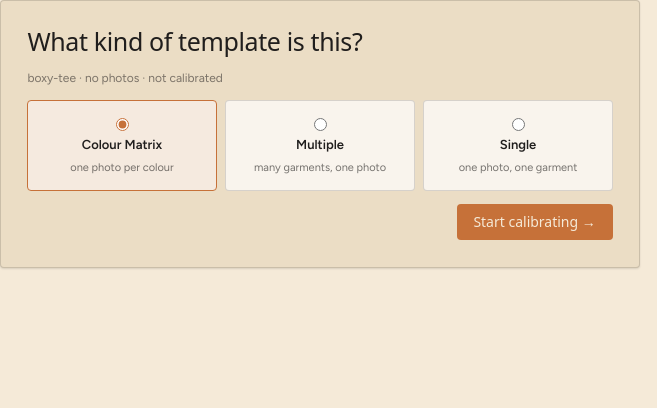
KindPicker › reports a refusal instead of leaving the button dead
Click the button "Start calibrating →" at (535, 222), box [456,204,613,240]
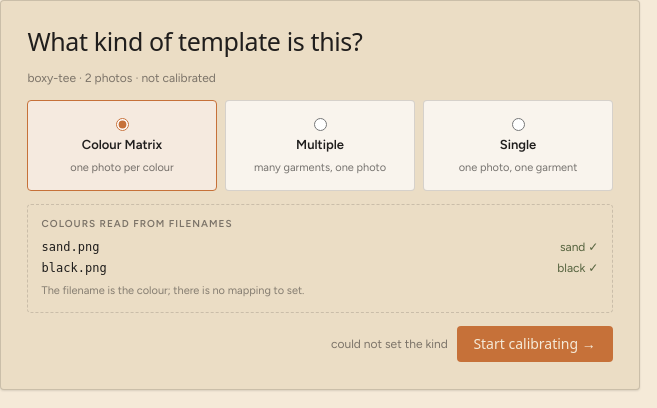
Now the text "could not set the kind" is shown, box [331,335,448,354]
